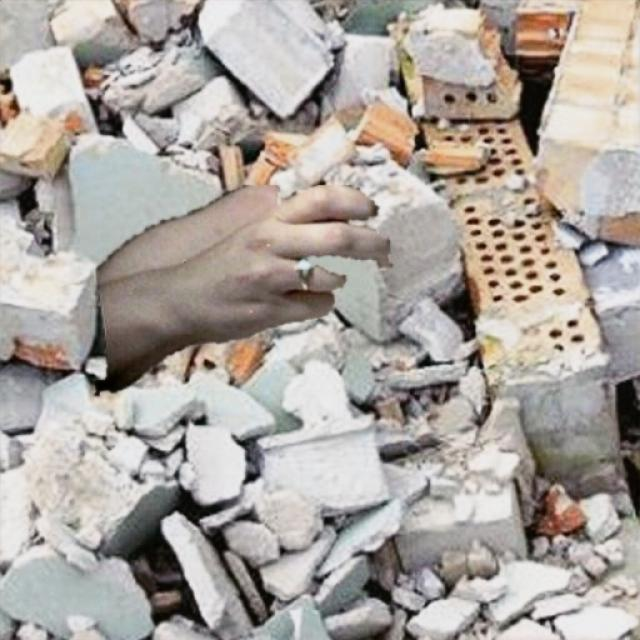Person in Rubble: (94, 185, 392, 395)
